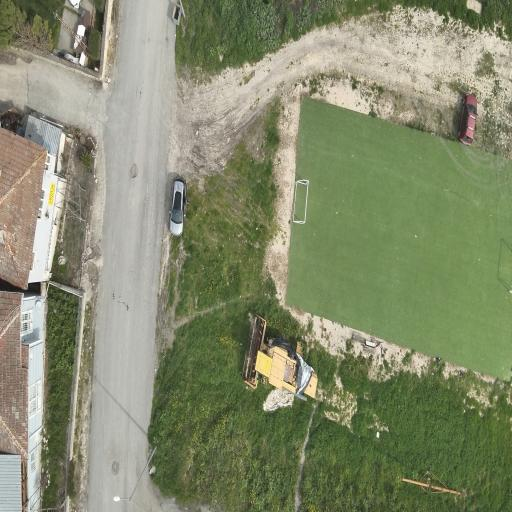car: (168, 178, 186, 235), (458, 93, 476, 144), (69, 0, 80, 8)
harvester: (242, 314, 316, 399)
